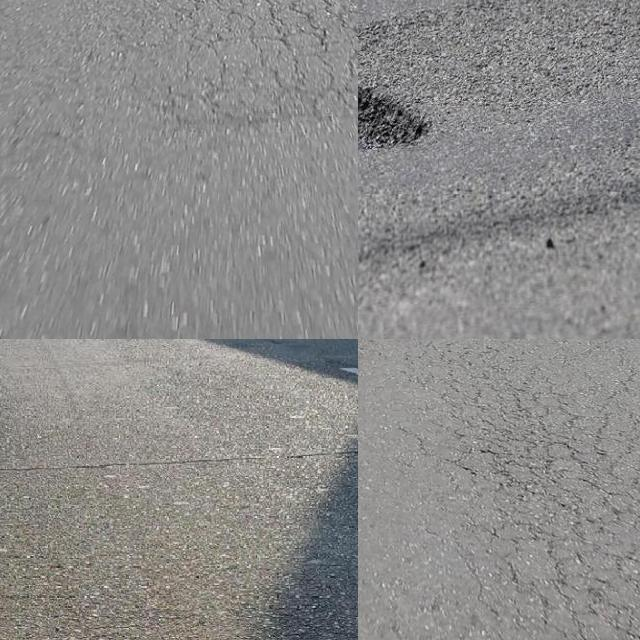Melintang: (0, 441, 358, 487)
Retak Buaya: (428, 339, 640, 640), (150, 0, 358, 159)
